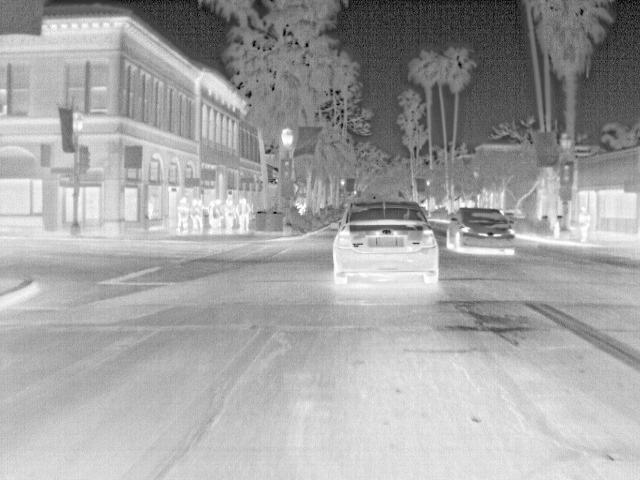car: (330, 198, 440, 285), (444, 207, 519, 257)
person: (173, 195, 191, 234), (576, 204, 591, 244), (206, 198, 222, 232), (237, 196, 252, 232), (224, 192, 237, 233)
